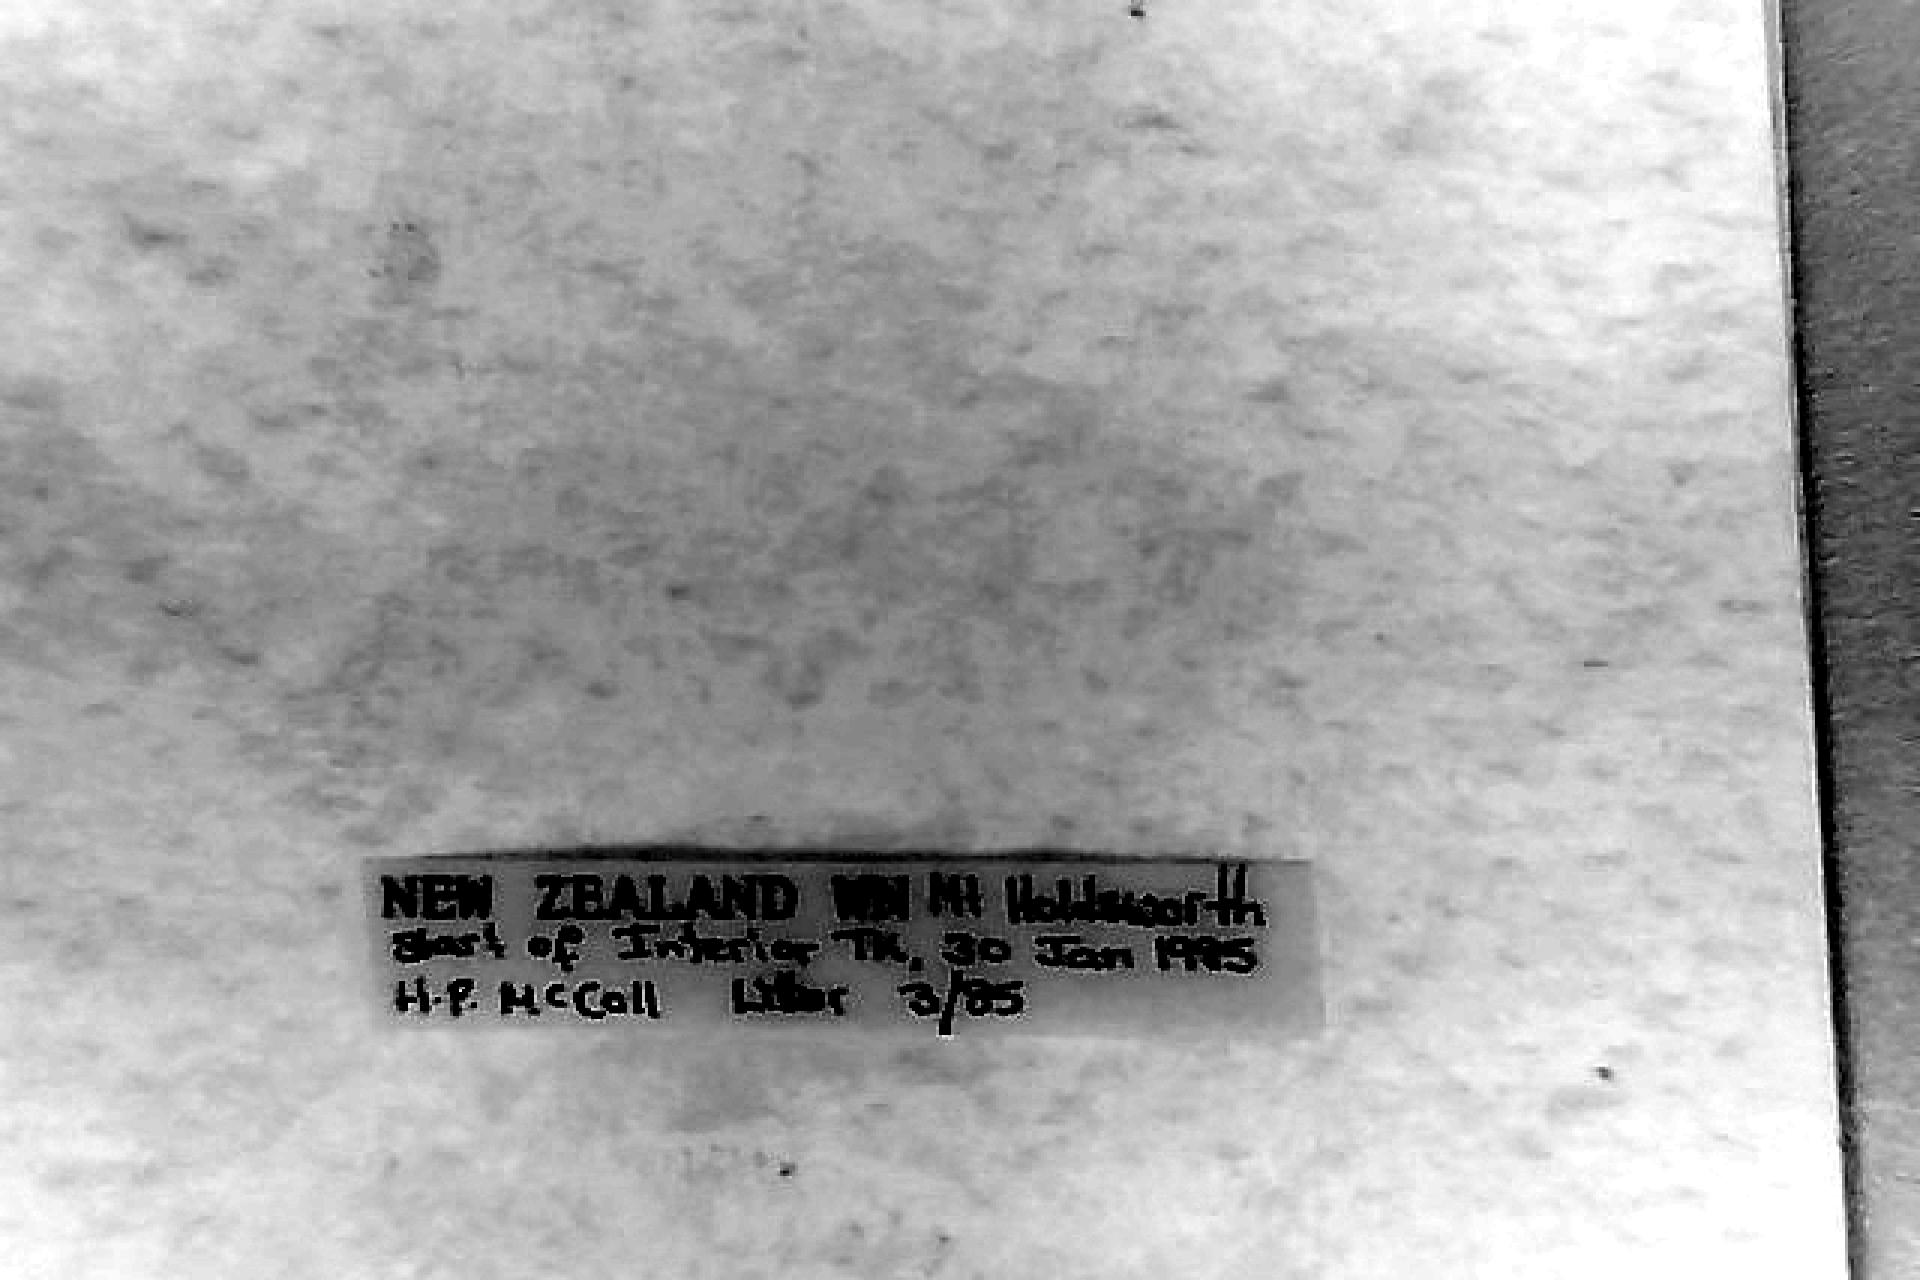mixed_label: (374, 857, 1314, 1034)
